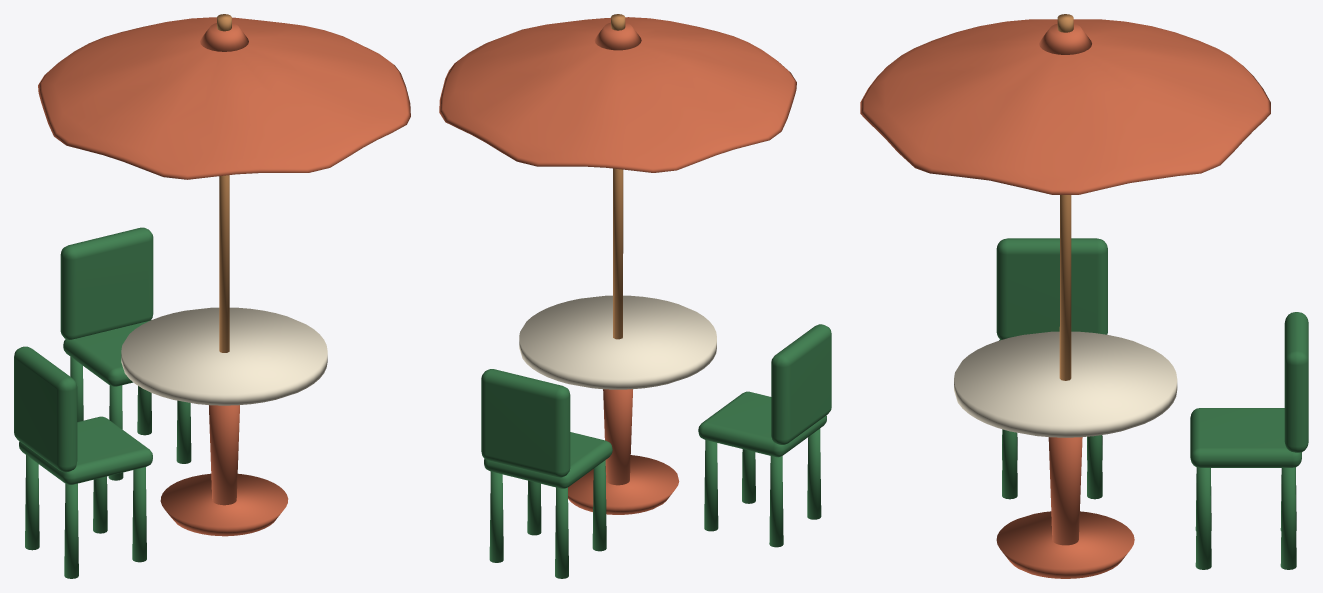
The model's file is street_cafe_table.glb.
3 views of the same model, side by side, from view 1: azimuth 30°, elevation 25°; view 2: azimuth 150°, elevation 25°; view 3: azimuth 270°, elevation 25° (orthographic). The views are drawn at different scales.
Visible parts, largest first — view 1: Parasol, Top, ChairBBack, ChairABack, Foot, ChairASeat, Pedestal, ChairBSeat, Pole, ChairALeg-0.16-0.16, ChairALeg0.16-0.16, ChairALeg-0.160.16 (+6 smaller); view 2: Parasol, Top, ChairBBack, ChairABack, ChairASeat, Foot, Pedestal, ChairBSeat, Pole, ChairALeg-0.160.16, ChairALeg0.160.16, ChairBLeg-0.16-0.16 (+6 smaller); view 3: Parasol, Top, ChairABack, Foot, ChairBSeat, ChairBBack, Pedestal, Pole, ChairBLeg0.160.16, ChairBLeg-0.160.16, ParasolCap, ChairALeg0.16-0.16 (+1 smaller).
Part boxes in pixels (x1,y1,x2,y2): Parasol: [38, 17, 410, 179]; Top: [121, 307, 327, 405]; ChairBBack: [60, 227, 153, 339]; ChairABack: [14, 346, 77, 472]; Foot: [160, 473, 288, 536]; ChairASeat: [19, 416, 152, 484]; Pedestal: [209, 405, 239, 505]; ChairBSeat: [63, 320, 149, 386]; Pole: [219, 175, 229, 352]; ChairALeg-0.16-0.16: [64, 483, 78, 578]; ChairALeg0.16-0.16: [132, 467, 146, 562]; ChairALeg-0.160.16: [25, 455, 39, 550]; Parasol: [439, 17, 796, 172]; Top: [519, 295, 716, 389]; ChairBBack: [481, 369, 570, 477]; ChairABack: [771, 324, 831, 444]; ChairASeat: [698, 391, 826, 457]; Foot: [568, 455, 679, 514]; Pedestal: [603, 389, 632, 485]; ChairBSeat: [484, 432, 612, 488]; Pole: [613, 168, 623, 339]; ChairALeg-0.160.16: [769, 456, 783, 547]; ChairALeg0.160.16: [704, 440, 718, 531]; ChairBLeg-0.16-0.16: [555, 487, 568, 578]; Parasol: [860, 19, 1270, 194]; Top: [954, 331, 1177, 437]; ChairABack: [996, 238, 1107, 339]; Foot: [996, 511, 1134, 578]; ChairBSeat: [1190, 408, 1301, 467]; ChairBBack: [1284, 312, 1308, 452]; Pedestal: [1048, 437, 1082, 545]; Pole: [1059, 195, 1071, 380]; ChairBLeg0.160.16: [1195, 467, 1211, 569]; ChairBLeg-0.160.16: [1280, 467, 1296, 569]; ParasolCap: [1039, 23, 1091, 54]; ChairALeg0.16-0.16: [1002, 429, 1017, 499].
Size of the model in its own units: 1.69 by 2.23 by 1.69.
